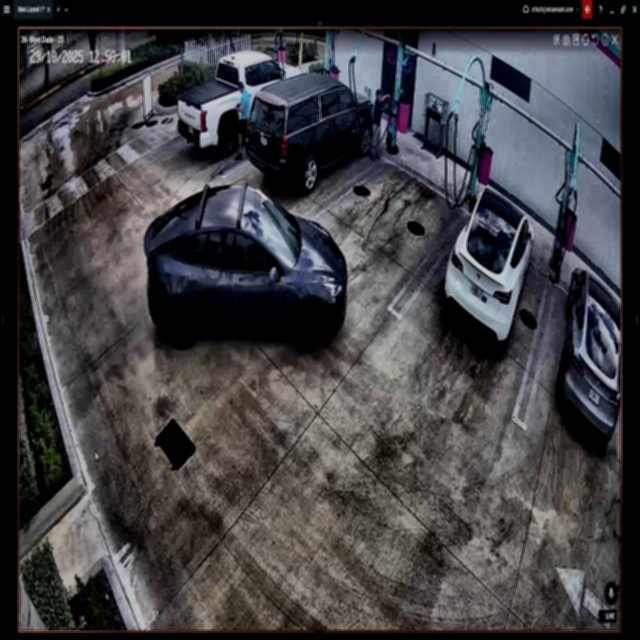Car: (144, 185, 347, 349), (251, 74, 374, 189), (445, 185, 535, 342), (178, 56, 302, 156)
